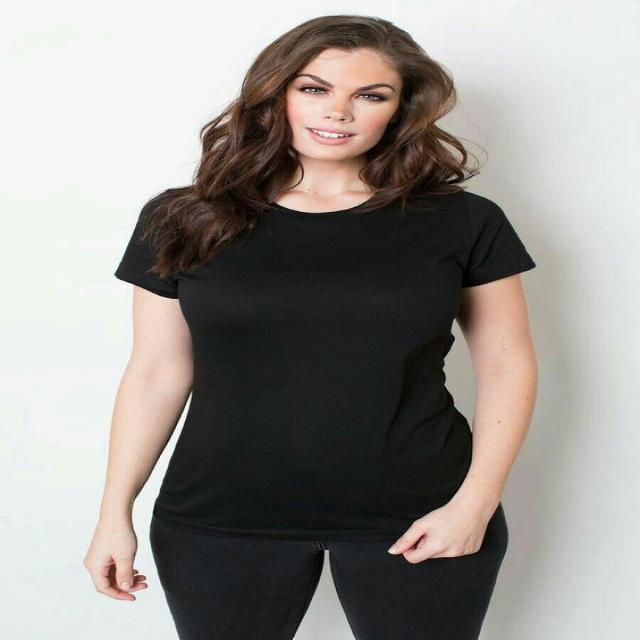shoulder: (126, 182, 528, 296)
